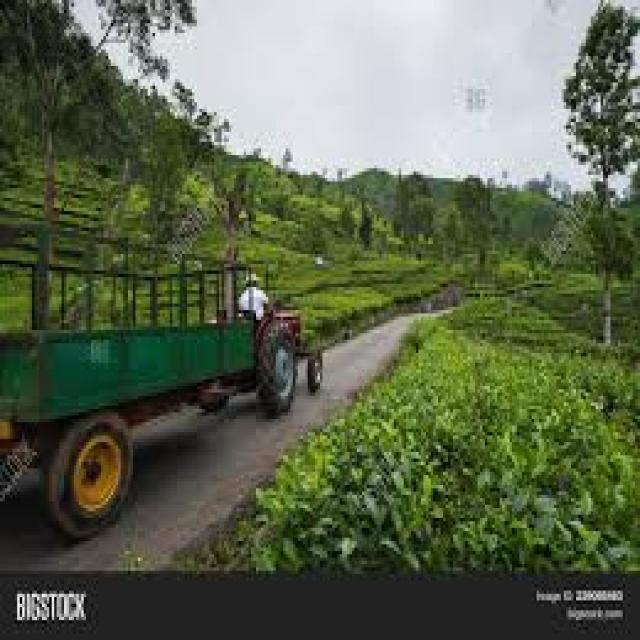person: (239, 274, 266, 320)
tractor: (0, 251, 320, 538)
